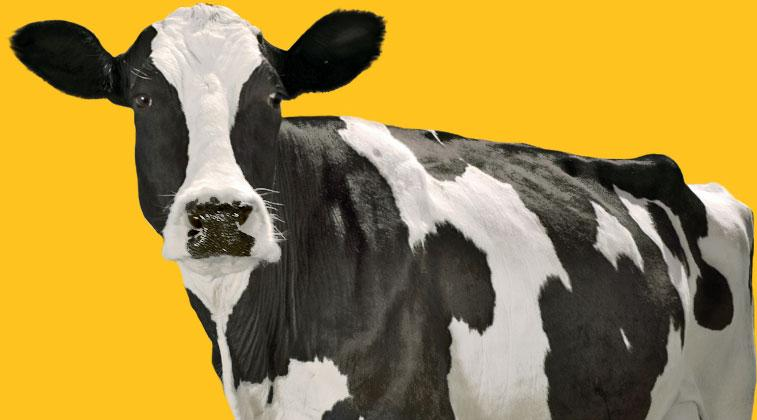muzzles: (159, 186, 286, 278)
